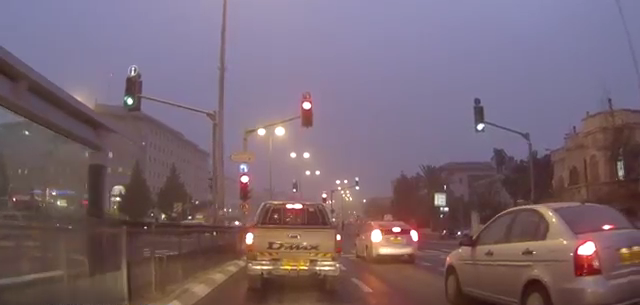bus: (243, 201, 342, 291)
car: (442, 200, 640, 304), (353, 219, 419, 263)
